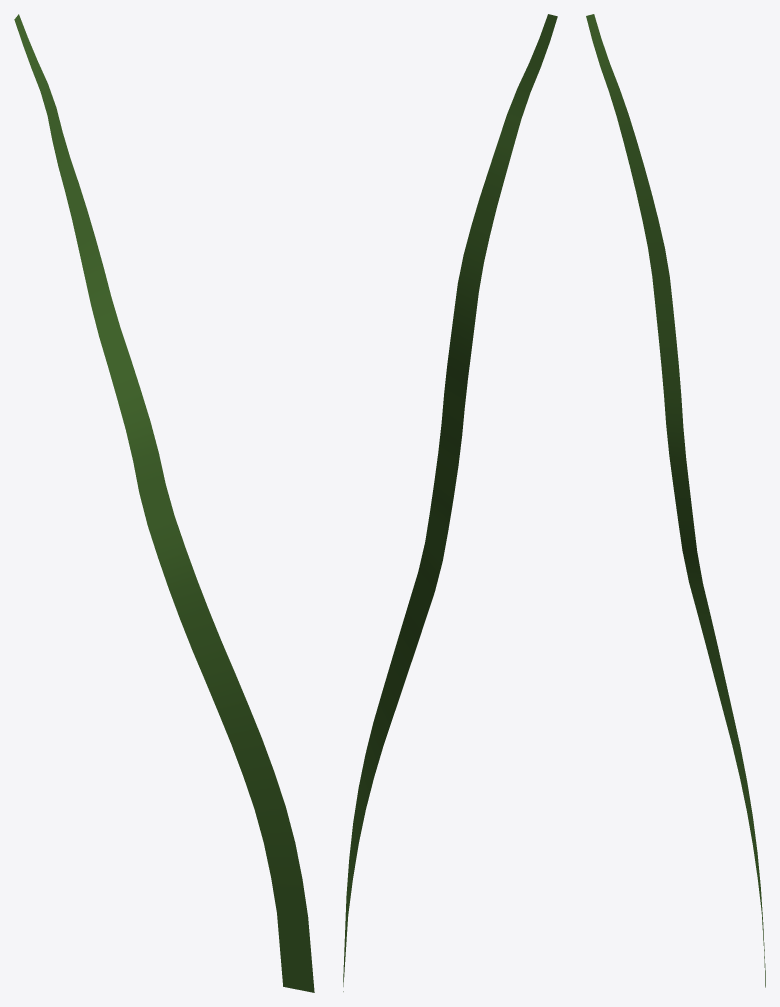
File: plant_swamp_kelp_giant_B_solo_B.fbx
3 renders of one model, left to right at view 1: azimuth 30°, elevation 25°; view 2: azimuth 150°, elevation 25°; view 3: azimuth 330°, elevation 25°, orthographic. The views are drawn at different scales.
Parts seen in each view (by area): view 1: plant_swamp_kelp_giant_B_solo_B; view 2: plant_swamp_kelp_giant_B_solo_B; view 3: plant_swamp_kelp_giant_B_solo_B.
Boxes of the visible parts, x1,y1,x2,y2 form: plant_swamp_kelp_giant_B_solo_B: (14, 14, 314, 992); plant_swamp_kelp_giant_B_solo_B: (343, 14, 557, 991); plant_swamp_kelp_giant_B_solo_B: (586, 14, 765, 987).
Size of the model in its own units: 138 by 528 by 51.55.
